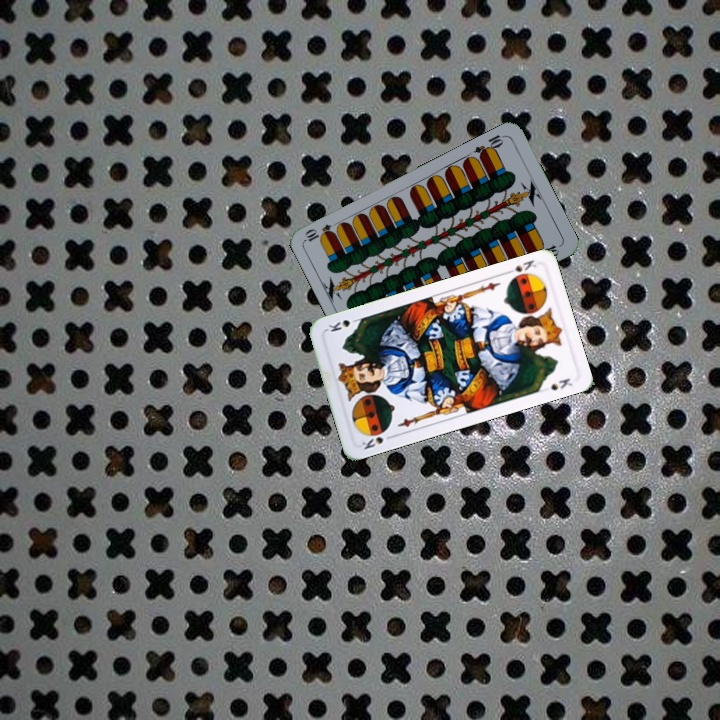E10: (470, 130, 508, 161)
SK: (358, 431, 397, 452), (502, 256, 538, 277)
